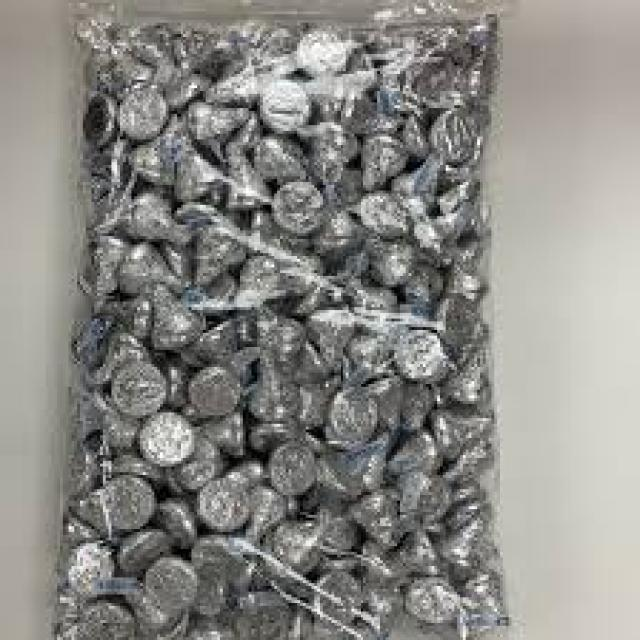kisses: (185, 222, 248, 297), (245, 342, 299, 428), (215, 143, 278, 214), (104, 356, 176, 416), (170, 140, 226, 215), (152, 280, 207, 356), (115, 234, 177, 301), (399, 455, 453, 528), (388, 318, 449, 382), (134, 408, 198, 469), (263, 437, 321, 503), (384, 524, 445, 586), (308, 307, 366, 371), (140, 556, 207, 610), (195, 476, 256, 535), (358, 135, 412, 200), (117, 85, 176, 144), (274, 172, 329, 235), (102, 474, 154, 539), (185, 366, 240, 424), (331, 388, 379, 454), (274, 516, 326, 576), (360, 227, 415, 282), (428, 110, 480, 166), (263, 80, 317, 132)
